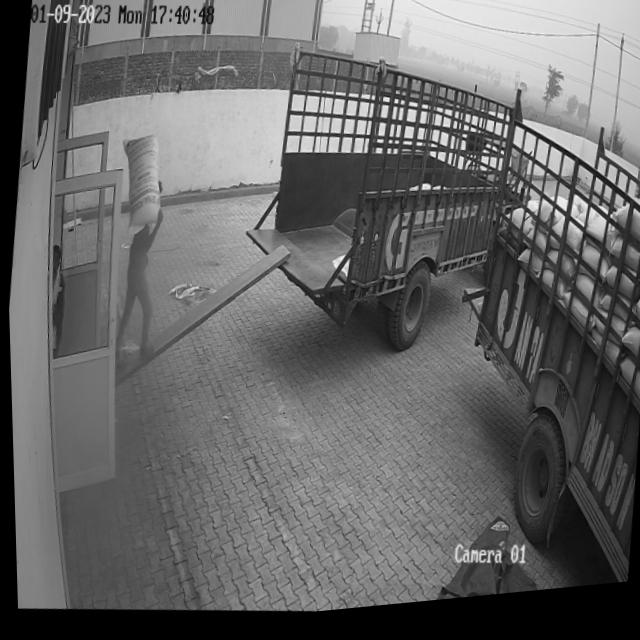sack: (112, 132, 167, 232)
